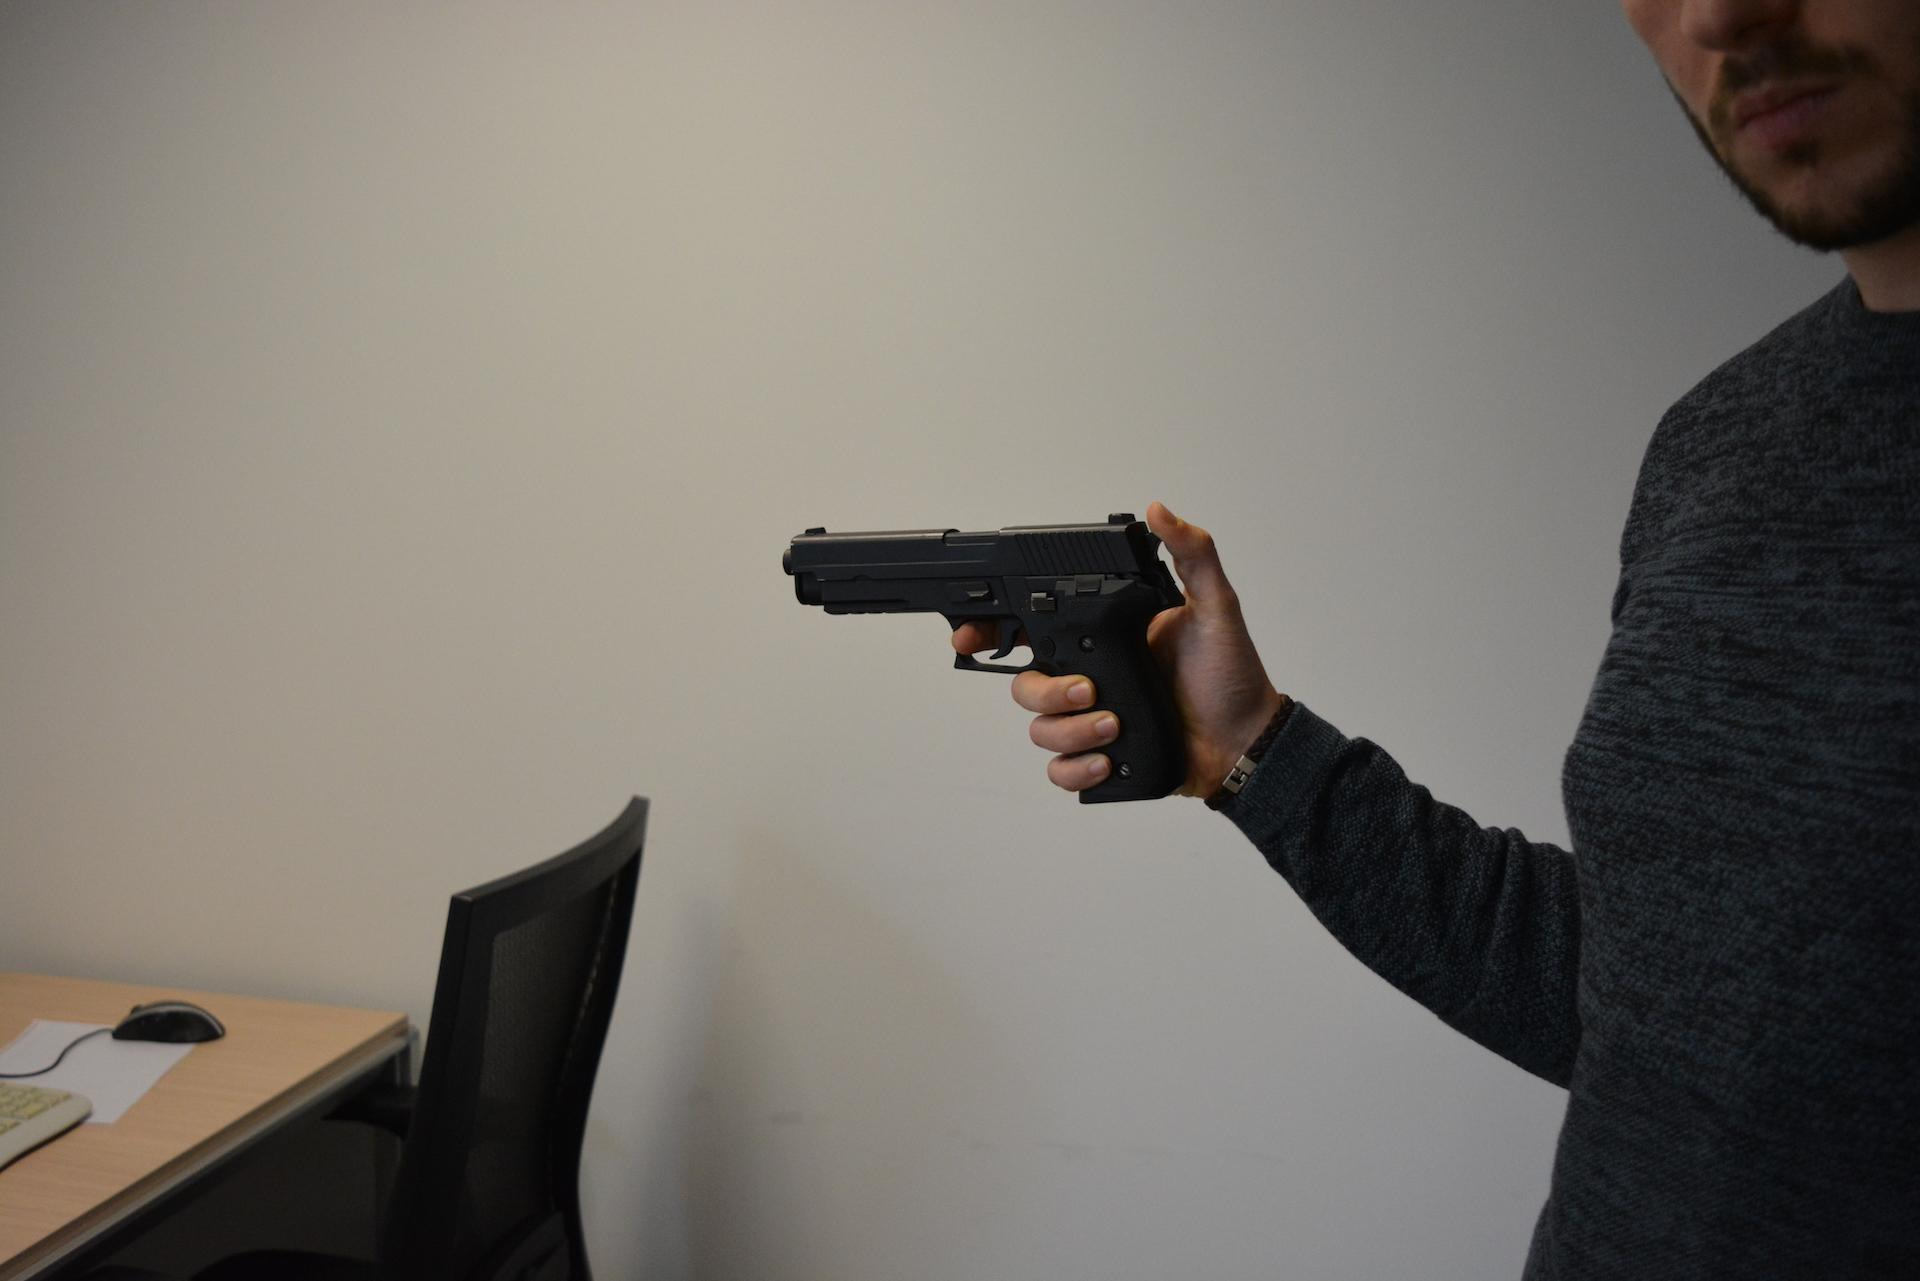criminal: (779, 0, 1920, 1281)
weapon: (779, 508, 1188, 806)
